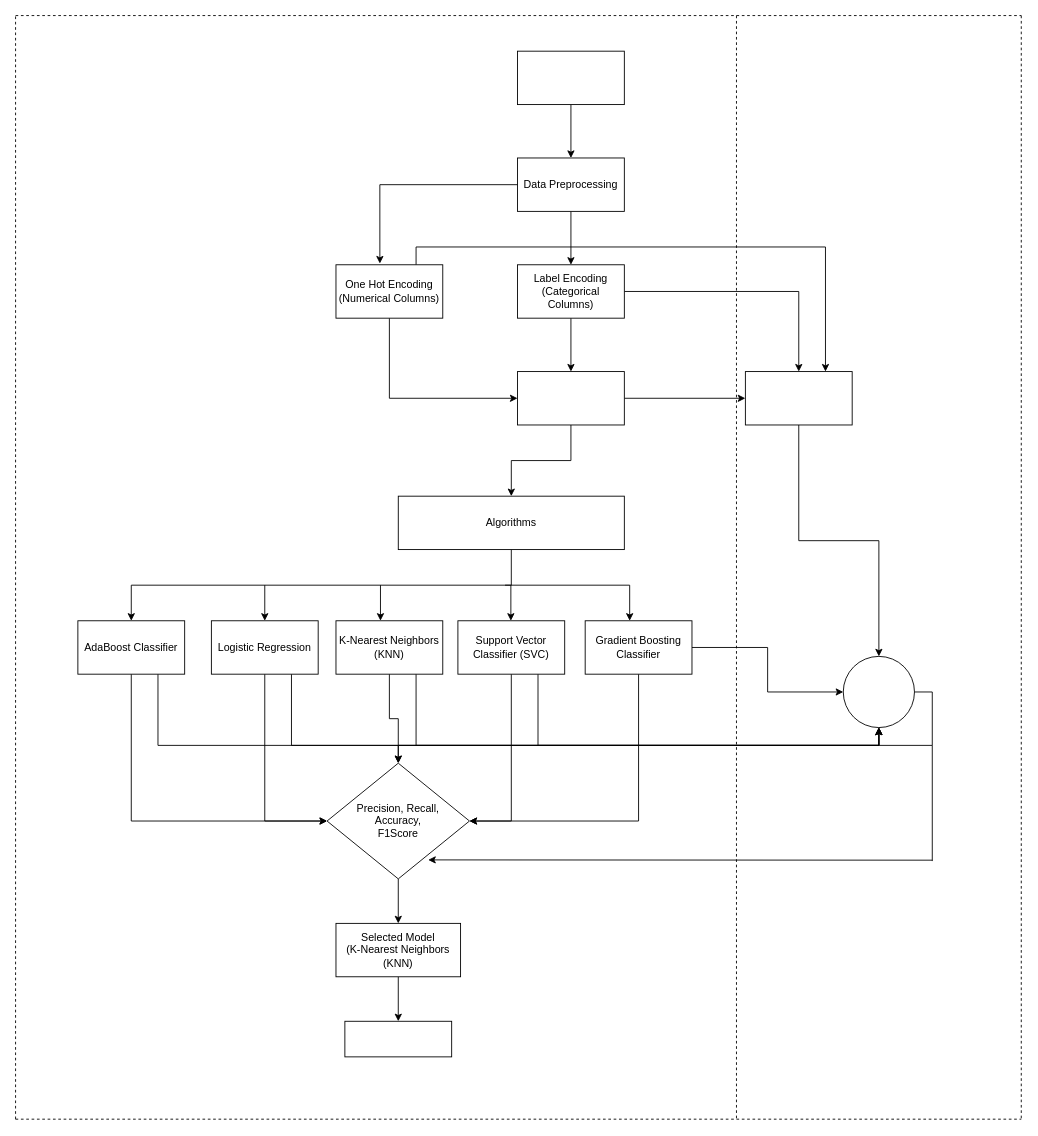
The diagram is 1038 pixels wide and 1136 high, and some of its shapes have lost their labels. The centre of each missing label's shape, as x and y in pixels:
Model Save (.pkl file): the point at 398,1038
N Samples (Field Data): the point at 570,77
Testing: the point at 878,691
Testing Dataset= (N1=N*25%): the point at 798,398
Training Dataset = (N1=N*75%): the point at 570,398
